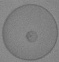small: (26, 31, 38, 43)
